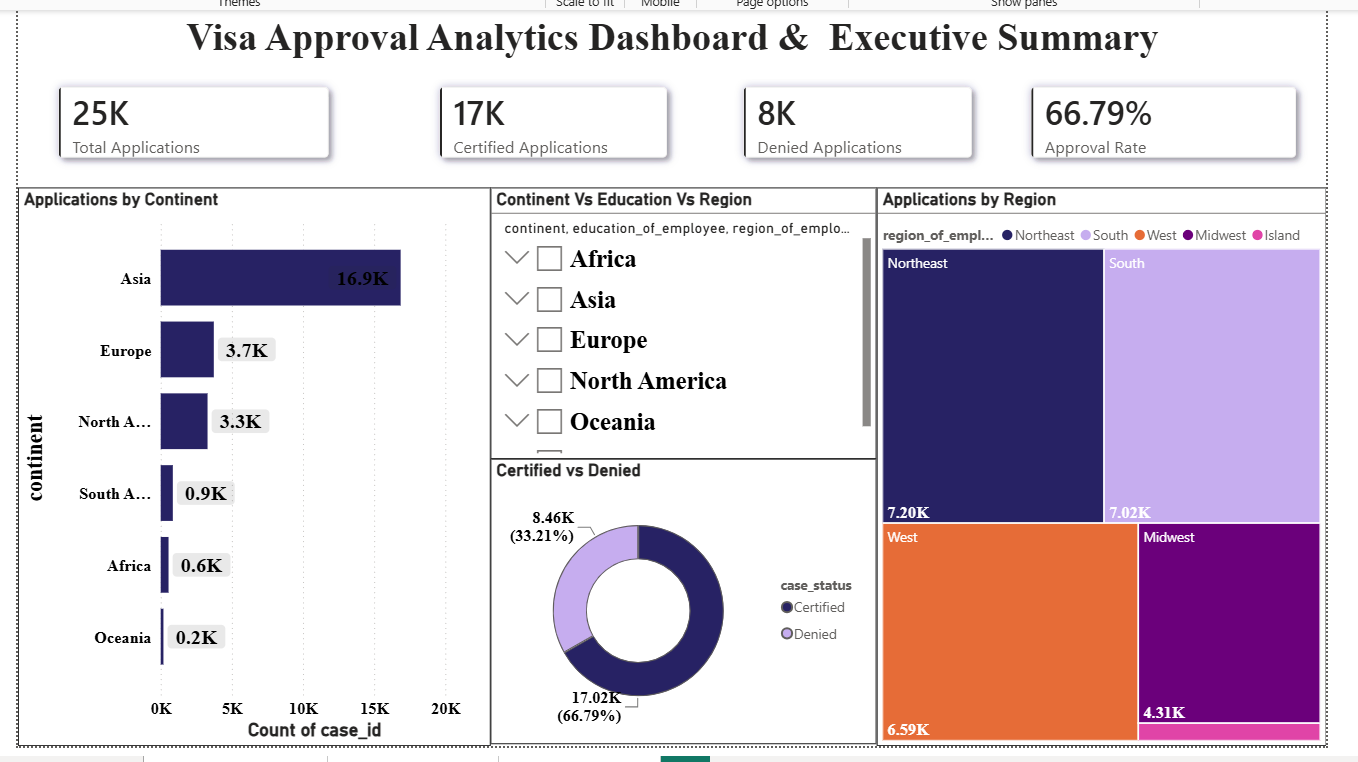

The page's visual inventory and layout, read from the dashboard file:
{"tool":"powerbi","page":{"name":"Executive Summary","canvas":[1280,720],"ordinal":0},"visuals":[{"type":"cardVisual","fields":{"Data":["Visadataset.Total Applications"]},"box":[11,46.5,322.8,127.2],"z":0},{"type":"cardVisual","fields":{"Data":["Visadataset.Certified Applications"]},"box":[384,46.5,280,127.2],"z":1000},{"type":"cardVisual","fields":{"Data":["Visadataset.Denied Applications"]},"box":[681.1,46.5,281.3,127.2],"z":2000},{"type":"cardVisual","fields":{"Data":["Visadataset.Approval Rate"]},"box":[962.4,46.5,317.9,127.2],"z":3000},{"type":"donutChart","title":"Certified vs Denied","fields":{"Y":["CountNonNull(Visadataset.case_id)"],"Category":["Visadataset.case_status"]},"box":[462.2,439,377.9,278.8],"z":4000},{"type":"barChart","title":"Applications by Continent","fields":{"Category":["Visadataset.continent"],"Y":["CountNonNull(Visadataset.case_id)"]},"box":[0,173.6,462.2,546.6],"z":5000},{"type":"treemap","title":"Applications by Region","fields":{"Group":["Visadataset.region_of_employment"],"Values":["CountNonNull(Visadataset.case_id)"]},"box":[840.1,173.6,440.2,546.6],"z":6000},{"type":"slicer","title":"Continent Vs Education Vs Region","fields":{"Values":["Visadataset.continent","Visadataset.education_of_employee","Visadataset.region_of_employment"]},"box":[462.2,173.6,377.9,265.4],"z":7000},{"type":"textbox","box":[0,0,1280.3,67.3],"z":8000}]}

Visuals, with their boxes on the page's 1280x720 design canvas (x1, y1, x2, y2). These are canvas units, not pixel positions in the 1358x762 screenshot, which may show the page scaled, cropped or inside an application window:
cardVisual - Visadataset.Total Applications: left=11, top=46, right=334, bottom=174
cardVisual - Visadataset.Certified Applications: left=384, top=46, right=664, bottom=174
cardVisual - Visadataset.Denied Applications: left=681, top=46, right=962, bottom=174
cardVisual - Visadataset.Approval Rate: left=962, top=46, right=1280, bottom=174
"Certified vs Denied" donutChart: left=462, top=439, right=840, bottom=718
"Applications by Continent" barChart: left=0, top=174, right=462, bottom=720
"Applications by Region" treemap: left=840, top=174, right=1280, bottom=720
"Continent Vs Education Vs Region" slicer: left=462, top=174, right=840, bottom=439
textbox: left=0, top=0, right=1280, bottom=67
